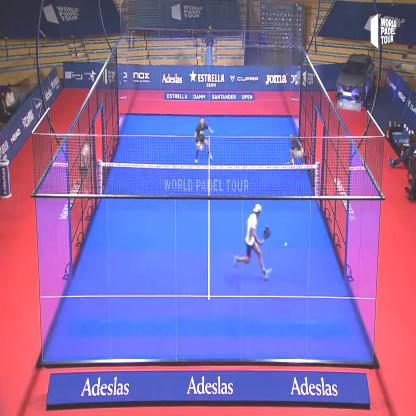ball: (284, 240, 288, 252)
